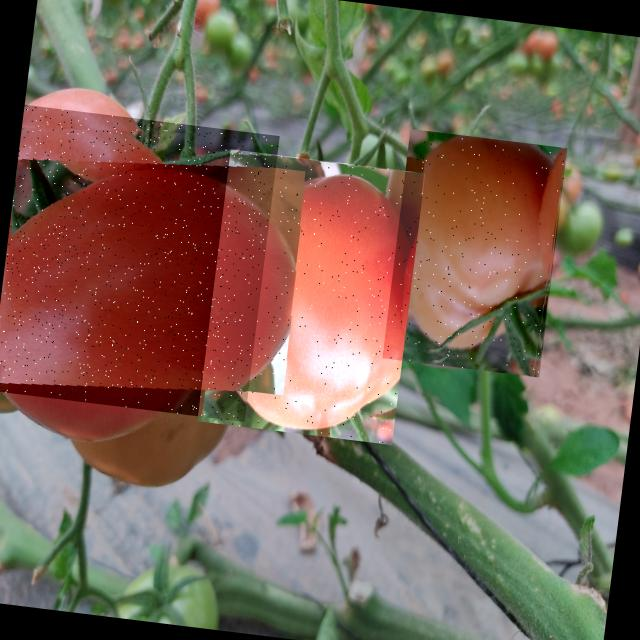Ripe Tomato: (0, 104, 279, 421), (197, 148, 425, 444), (382, 128, 567, 378)
